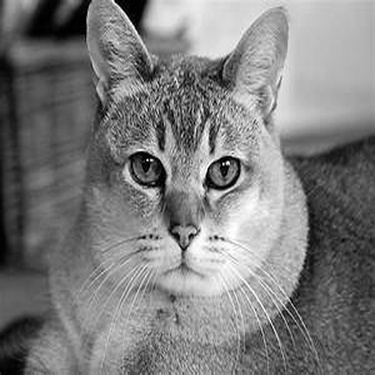cat: (25, 5, 361, 362)
